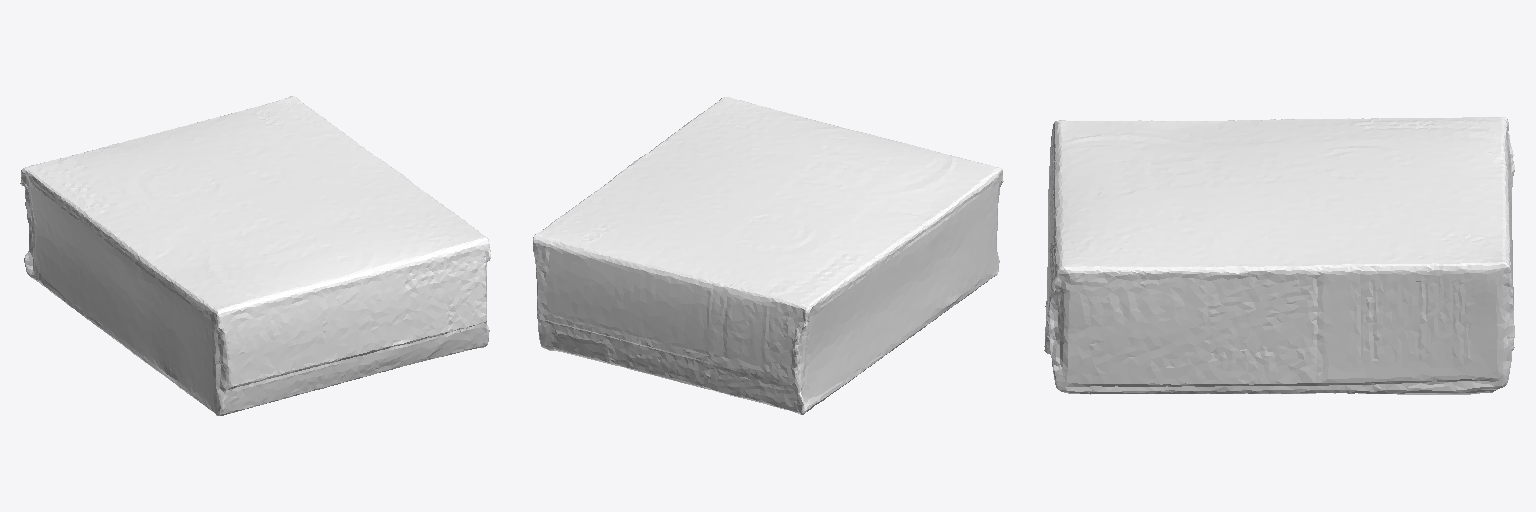
The robot description file, URDF, robot "pudding_box":
<robot name="pudding_box">
    <link name="base_link">
        <visual>
            <origin xyz="-0.0 -0.0 -0.0" rpy="0.0 0.0 0.0" />
            <geometry>
                <mesh filename="pudding_box/textured.obj" scale="1 1 1" />
            </geometry>
            <material name="texture">
                <color rgba="1.0 1.0 1.0 1.0" />
            </material>
        </visual>
        <collision>
            <origin xyz="-0.0 -0.0 -0.0" rpy="0.0 0.0 0.0" />
            <geometry>
                <mesh filename="pudding_box/textured_coacd_0.stl" scale="1 1 1" />
            </geometry>
        </collision>
        <collision>
            <origin xyz="-0.0 -0.0 -0.0" rpy="0.0 0.0 0.0" />
            <geometry>
                <mesh filename="pudding_box/textured_coacd_1.stl" scale="1 1 1" />
            </geometry>
        </collision>
        <inertial>
            <mass value="0.187" />
            <inertia ixx="1e-3" ixy="0.0" ixz="0.0" iyy="1e-3" iyz="0.0" izz="1e-3" />
        </inertial>
    </link>
</robot>

--- What the picture shows (computed from the rendered views, not written in the file) ---
Views: 3 orthographic renders of the robot side by side, from view 1: azimuth 30°, elevation 25°; view 2: azimuth 150°, elevation 25°; view 3: azimuth 270°, elevation 25°.
Model pudding_box with 1 links and 0 joints (none), rooted at base_link, posed every joint at zero.
Visible links, largest first — view 1: base_link; view 2: base_link; view 3: base_link.
Link boxes in pixels (x1=…): base_link: x1=20, y1=96, x2=490, y2=415; base_link: x1=533, y1=97, x2=1003, y2=414; base_link: x1=1044, y1=117, x2=1514, y2=394.
Size in the robot's own frame: 0.0897 by 0.113 by 0.0383 metres.
1 mesh visuals loaded from 1 distinct referenced files (1 OBJ).